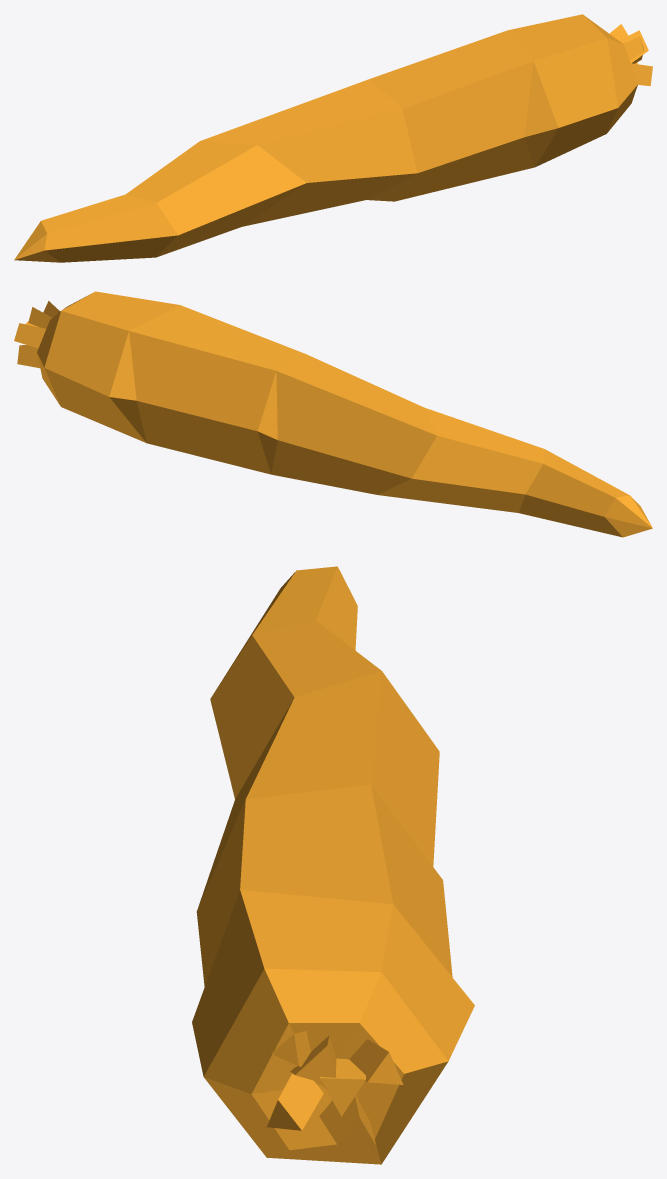
File: SM_Carrot_B.fbx
3 renders of one model, top to bottom at view 1: azimuth 30°, elevation 25°; view 2: azimuth 150°, elevation 25°; view 3: azimuth 270°, elevation 25°, orthographic. The views are drawn at different scales.
Parts seen in each view (by area): view 1: carrot-b; view 2: carrot-b; view 3: carrot-b.
Boxes of the visible parts, <box> form: carrot-b: <box>14,14,652,262</box>; carrot-b: <box>14,291,652,537</box>; carrot-b: <box>192,566,474,1164</box>.
Size of the model in its own units: 0.3636 by 0.0627 by 0.0715.
